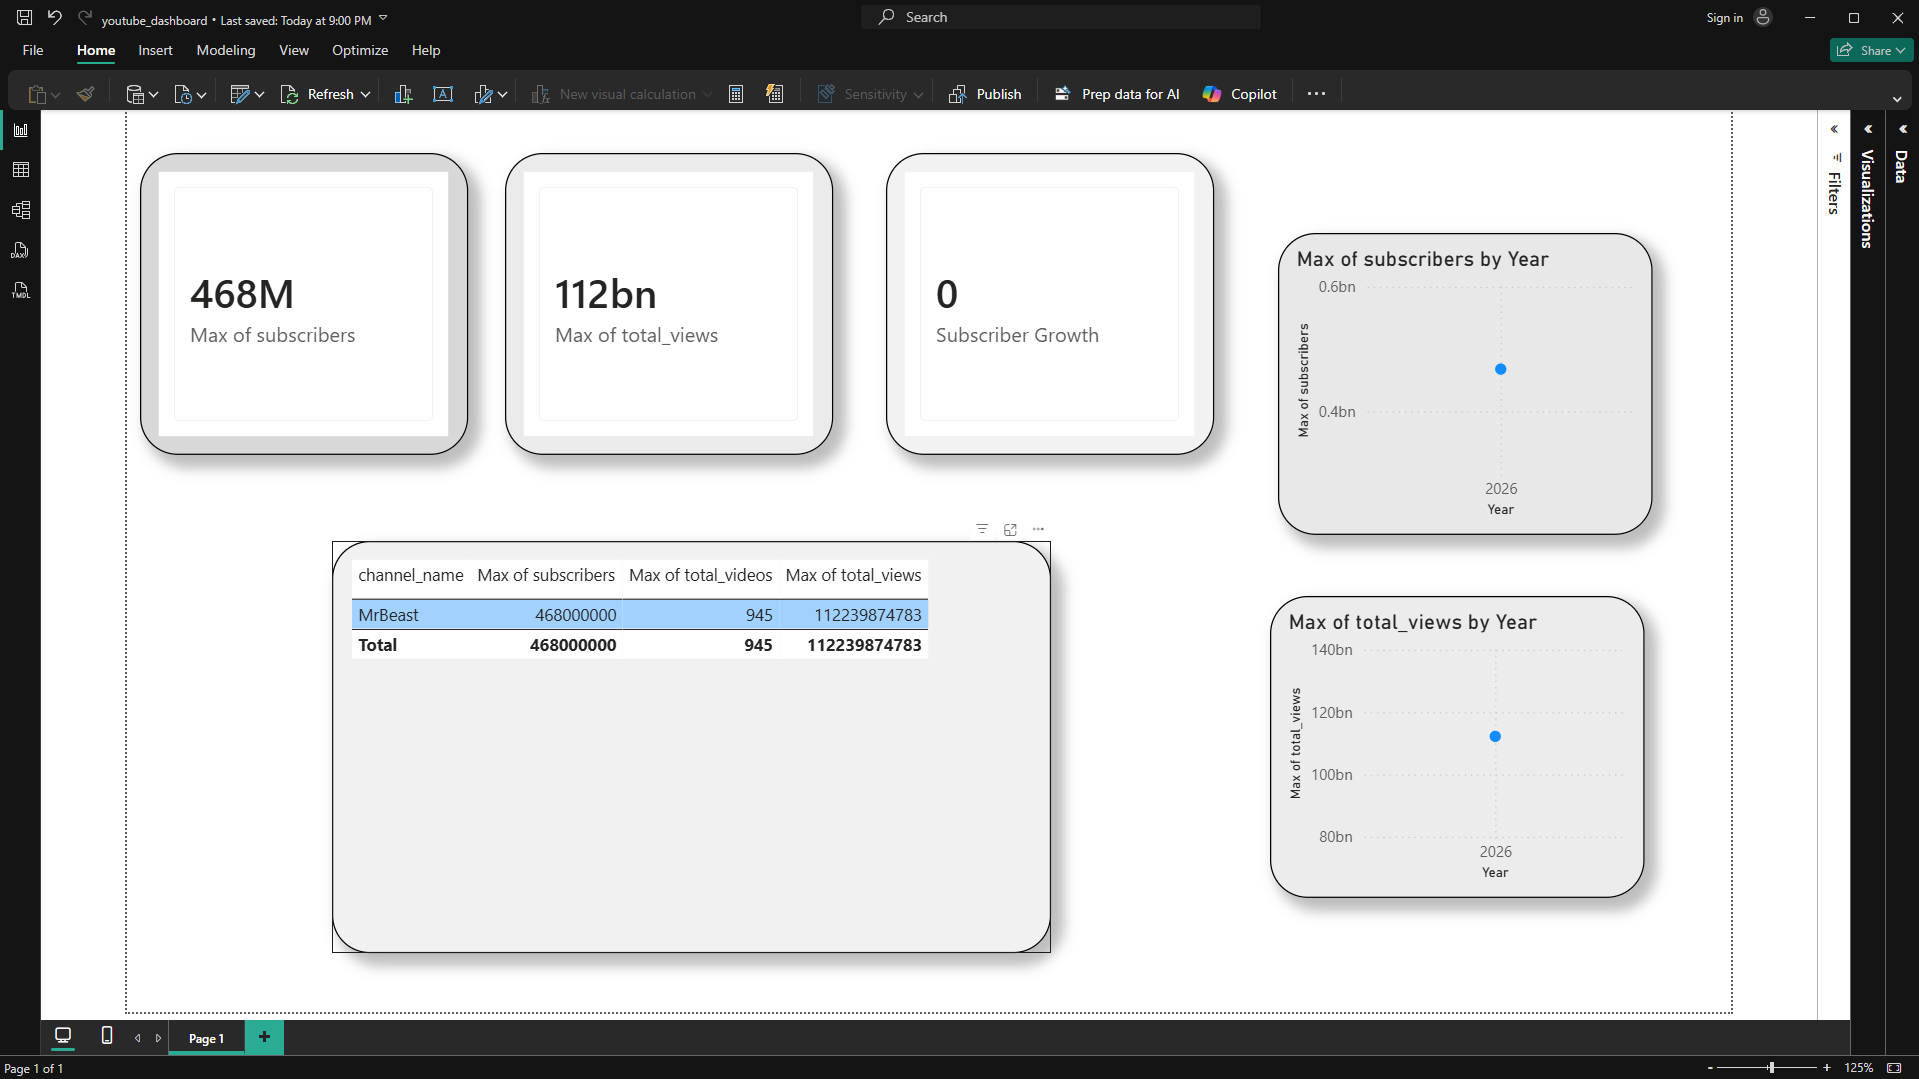

Layout of this report page (visuals, bound fields, positions):
{"tool":"powerbi","page":{"name":"Page 1","canvas":[1280,720],"ordinal":0},"visuals":[{"type":"cardVisual","fields":{"Data":["youtube_project channel_stats.subscribers"]},"box":[10.7,34,261.6,241.2],"z":0},{"type":"cardVisual","fields":{"Data":["youtube_project channel_stats.total_views"]},"box":[301.5,34,261.6,241.2],"z":1},{"type":"lineChart","fields":{"Category":["youtube_project channel_stats.collected_at.Variation.Date Hierarchy.Year","youtube_project channel_stats.collected_at.Variation.Date Hierarchy.Quarter","youtube_project channel_stats.collected_at.Variation.Date Hierarchy.Month","youtube_project channel_stats.collected_at.Variation.Date Hierarchy.Day"],"Y":["youtube_project channel_stats.subscribers"]},"box":[919.1,98.2,298.6,241.2],"z":2},{"type":"lineChart","fields":{"Category":["youtube_project channel_stats.collected_at.Variation.Date Hierarchy.Year","youtube_project channel_stats.collected_at.Variation.Date Hierarchy.Quarter","youtube_project channel_stats.collected_at.Variation.Date Hierarchy.Month","youtube_project channel_stats.collected_at.Variation.Date Hierarchy.Day"],"Y":["youtube_project channel_stats.total_views"]},"box":[912.3,388.1,298.6,241.2],"z":3},{"type":"tableEx","fields":{"Values":["youtube_project channel_stats.channel_name","youtube_project channel_stats.subscribers","youtube_project channel_stats.total_videos","youtube_project channel_stats.total_views"]},"box":[163.4,344.3,573.9,328.8],"z":4},{"type":"cardVisual","fields":{"Data":["youtube_project channel_stats.Subscriber Growth"]},"box":[606,34,261.6,241.2],"z":5}]}

Visuals, with their boxes in screenshot pixels (x1, y1, x2, y2):
cardVisual - youtube_project channel_stats.subscribers: BBox(130, 103, 503, 447)
cardVisual - youtube_project channel_stats.total_views: BBox(545, 103, 918, 447)
lineChart - youtube_project channel_stats.collected_at.Variation.Date Hierarchy.Year x youtube_project channel_stats.collected_at.Variation.Date Hierarchy.Quarter: BBox(1426, 195, 1851, 539)
lineChart - youtube_project channel_stats.collected_at.Variation.Date Hierarchy.Year x youtube_project channel_stats.collected_at.Variation.Date Hierarchy.Quarter: BBox(1416, 608, 1842, 952)
tableEx - youtube_project channel_stats.channel_name x youtube_project channel_stats.subscribers: BBox(348, 546, 1166, 1015)
cardVisual - youtube_project channel_stats.Subscriber Growth: BBox(979, 103, 1352, 447)
